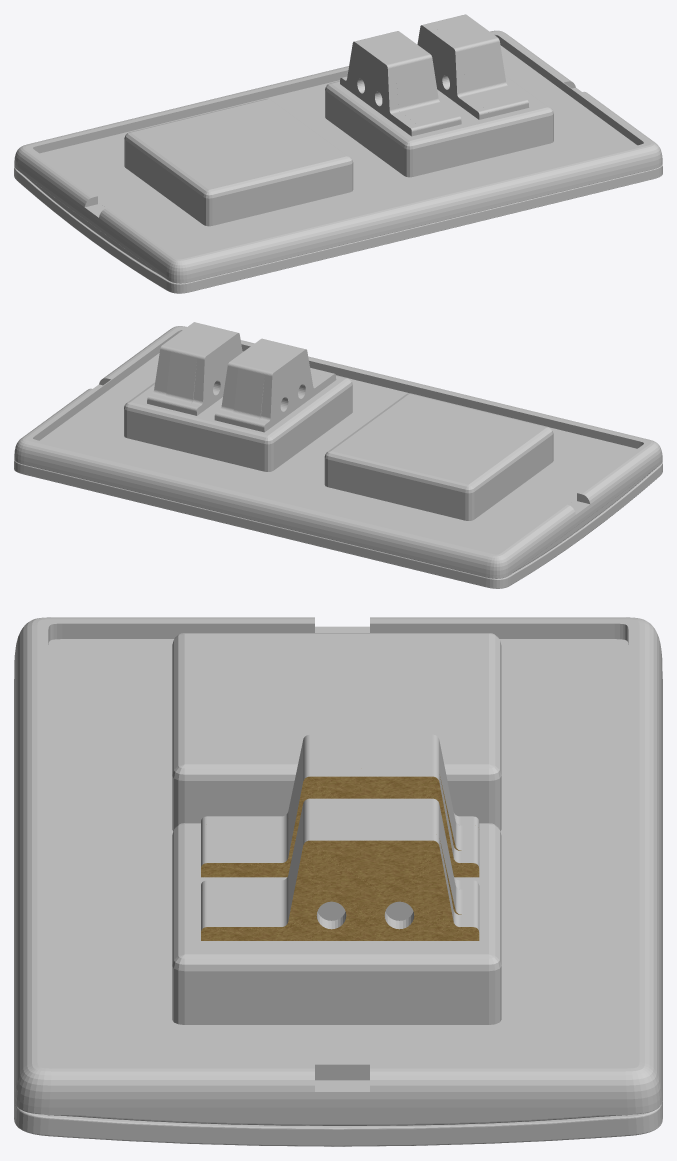
Rendered from Switch.dae.
3 renders of one model, top to bottom at view 1: azimuth 30°, elevation 25°; view 2: azimuth 150°, elevation 25°; view 3: azimuth 270°, elevation 25°, orthographic. The views are drawn at different scales.
Parts seen in each view (by area): view 1: node; view 2: node; view 3: node.
Part boxes in pixels (x1=…): node: x1=14, y1=14, x2=662, y2=293; node: x1=14, y1=322, x2=662, y2=588; node: x1=14, y1=617, x2=662, y2=1146.
Size of the model in its own units: 2.48 by 0.6194 by 1.46.
